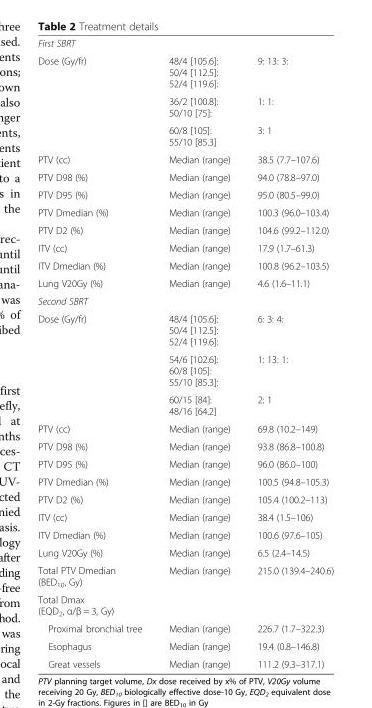table: (37, 37, 333, 669)
table column: (37, 37, 154, 669), (243, 37, 333, 669), (154, 37, 243, 669)
table projected row header: (37, 590, 333, 619), (37, 291, 333, 309), (37, 37, 333, 51)
table row: (37, 51, 333, 92), (37, 349, 333, 390), (37, 309, 333, 349), (37, 92, 333, 121), (37, 121, 333, 150), (37, 390, 333, 419), (37, 561, 333, 590), (37, 590, 333, 619), (37, 167, 333, 185), (37, 185, 333, 203), (37, 203, 333, 221), (37, 238, 333, 256), (37, 256, 333, 274), (37, 291, 333, 309), (37, 419, 333, 437), (37, 454, 333, 472), (37, 472, 333, 490), (37, 490, 333, 508), (37, 525, 333, 543), (37, 543, 333, 561), (37, 619, 333, 637), (37, 150, 333, 167), (37, 221, 333, 238), (37, 274, 333, 291), (37, 437, 333, 454), (37, 508, 333, 525), (37, 637, 333, 654), (37, 654, 333, 669), (37, 37, 333, 51)
table spanning cell: (37, 309, 154, 419), (37, 51, 154, 150)
